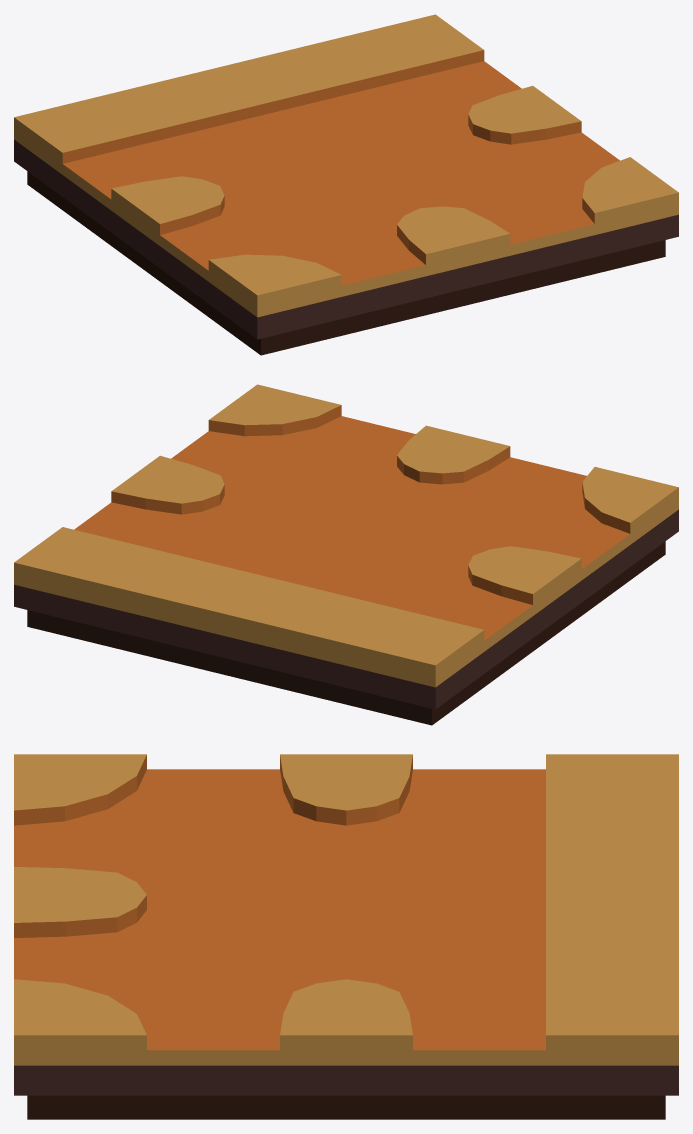
Rendered from Tile_Dirt_Road_T.fbx.
3 views of the same model, one above another, from view 1: azimuth 30°, elevation 25°; view 2: azimuth 150°, elevation 25°; view 3: azimuth 270°, elevation 25° (orthographic). The views are drawn at different scales.
Parts seen in each view (by area): view 1: Tile_Dirt_Road_T; view 2: Tile_Dirt_Road_T; view 3: Tile_Dirt_Road_T.
Boxes of the visible parts, x1,y1,x2,y2 form: Tile_Dirt_Road_T: (14, 14, 678, 355); Tile_Dirt_Road_T: (14, 384, 678, 725); Tile_Dirt_Road_T: (14, 754, 678, 1119).
Size of the model in its own units: 100 by 14.9 by 100.
